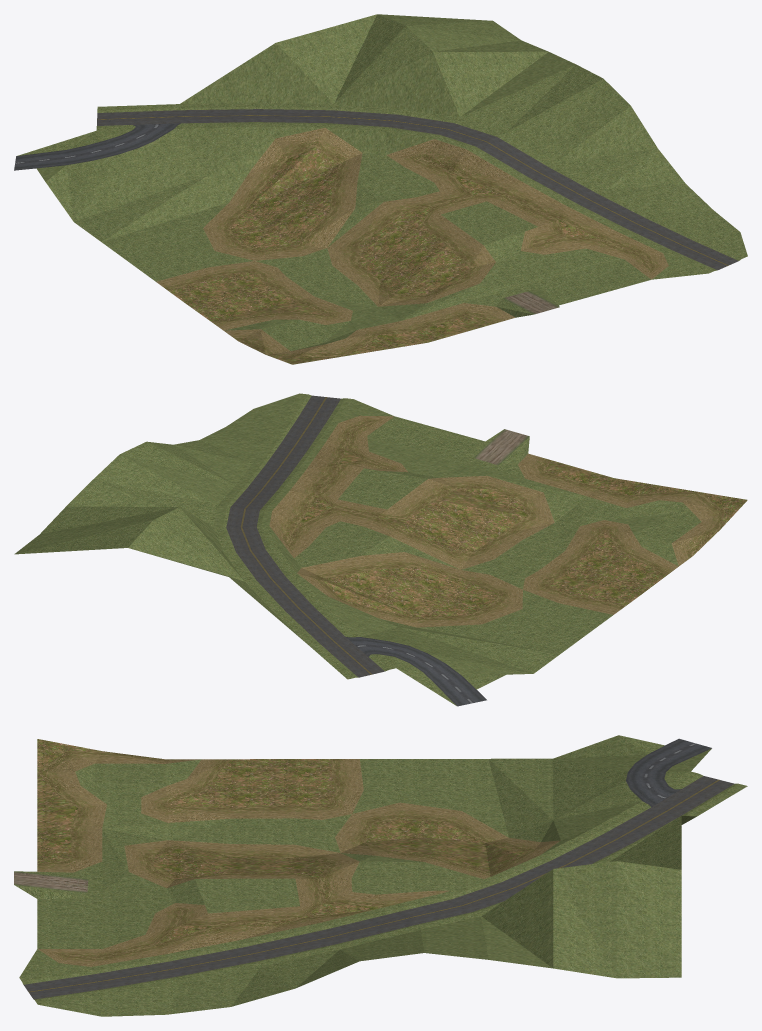
Rendered from se_bit_03.obj.
3 renders of one model, top to bottom at view 1: azimuth 30°, elevation 25°; view 2: azimuth 150°, elevation 25°; view 3: azimuth 270°, elevation 25°, orthographic. The views are drawn at different scales.
Visible parts, largest first — view 1: se_bit_03; view 2: se_bit_03; view 3: se_bit_03.
Boxes of the visible parts, x1,y1,x2,y2 form: se_bit_03: (14, 14, 747, 364); se_bit_03: (14, 393, 747, 706); se_bit_03: (14, 735, 747, 1016).
Bounding box in the file's own units: 217 × 38.17 × 243.
Materials: 6 (6 with a texture image).
